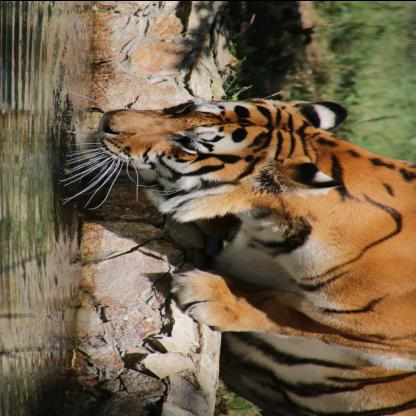tiger: (81, 80, 326, 204)
